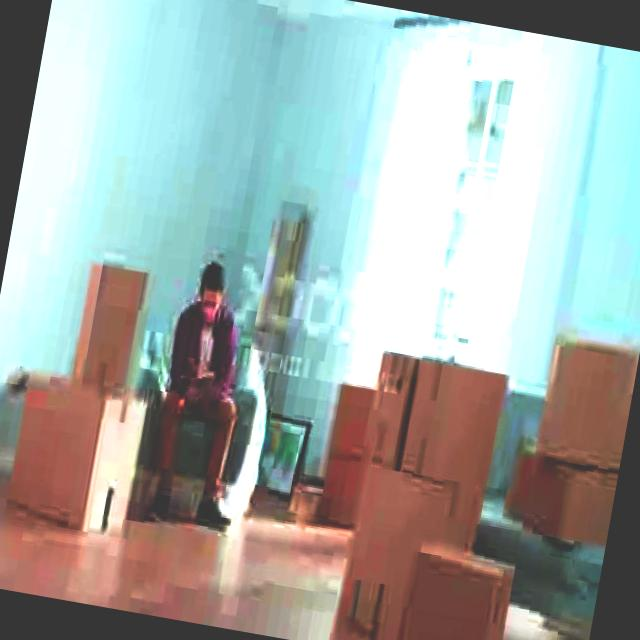Box: (0, 382, 144, 528), (328, 466, 429, 636), (403, 353, 509, 499), (530, 336, 638, 468), (66, 263, 154, 407), (394, 541, 518, 640), (494, 456, 614, 546), (359, 350, 418, 473)
